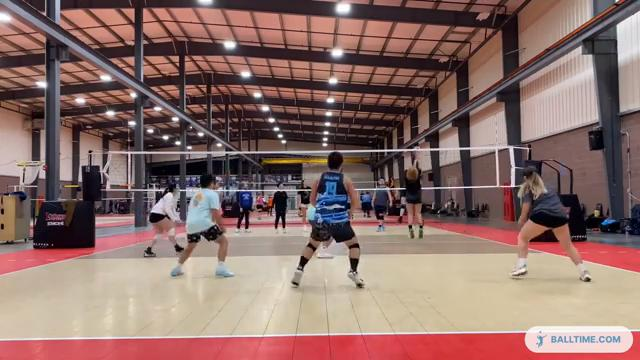muro: (398, 148, 429, 239)
